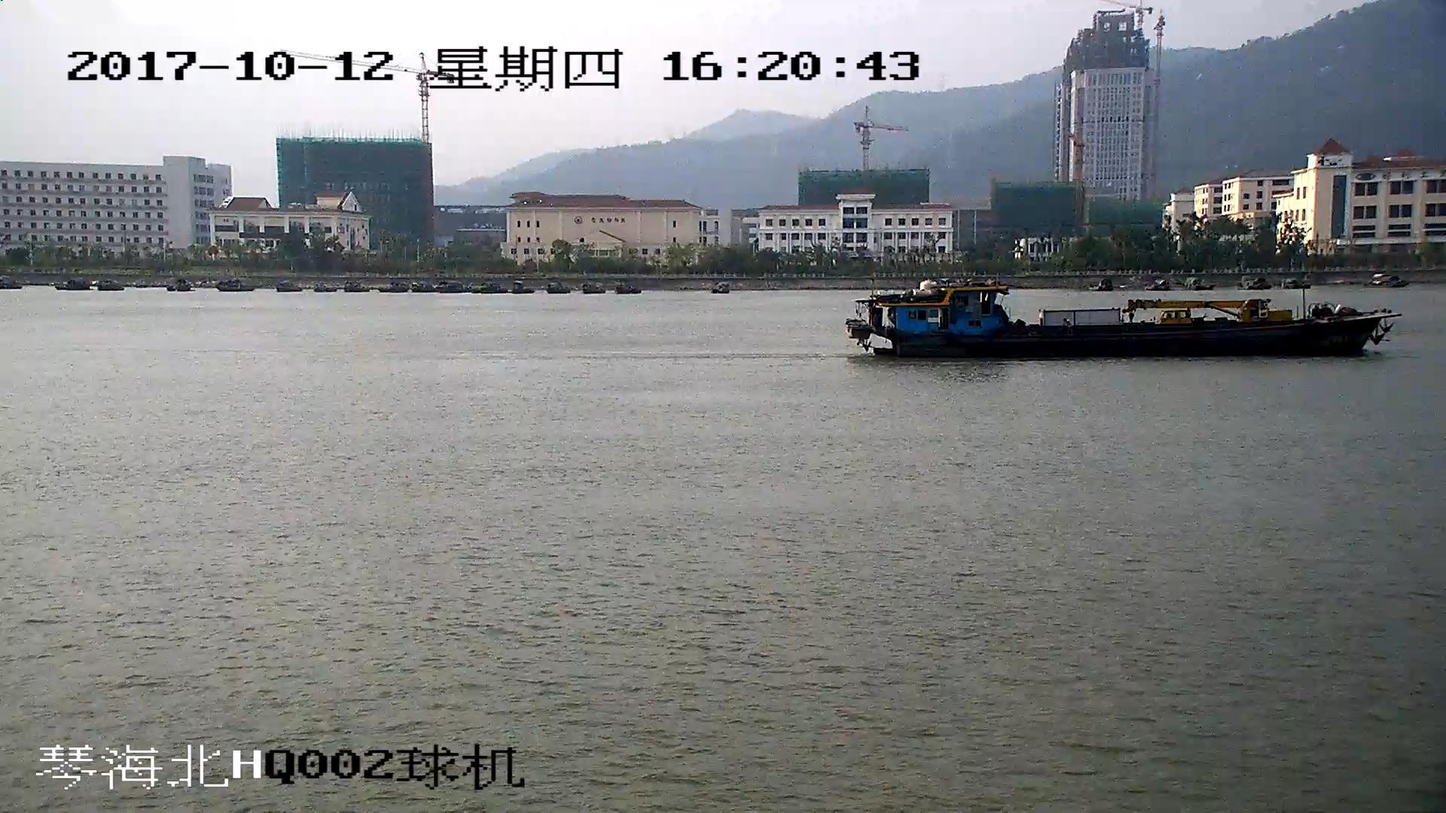fishing boat: (853, 278, 1388, 360)
